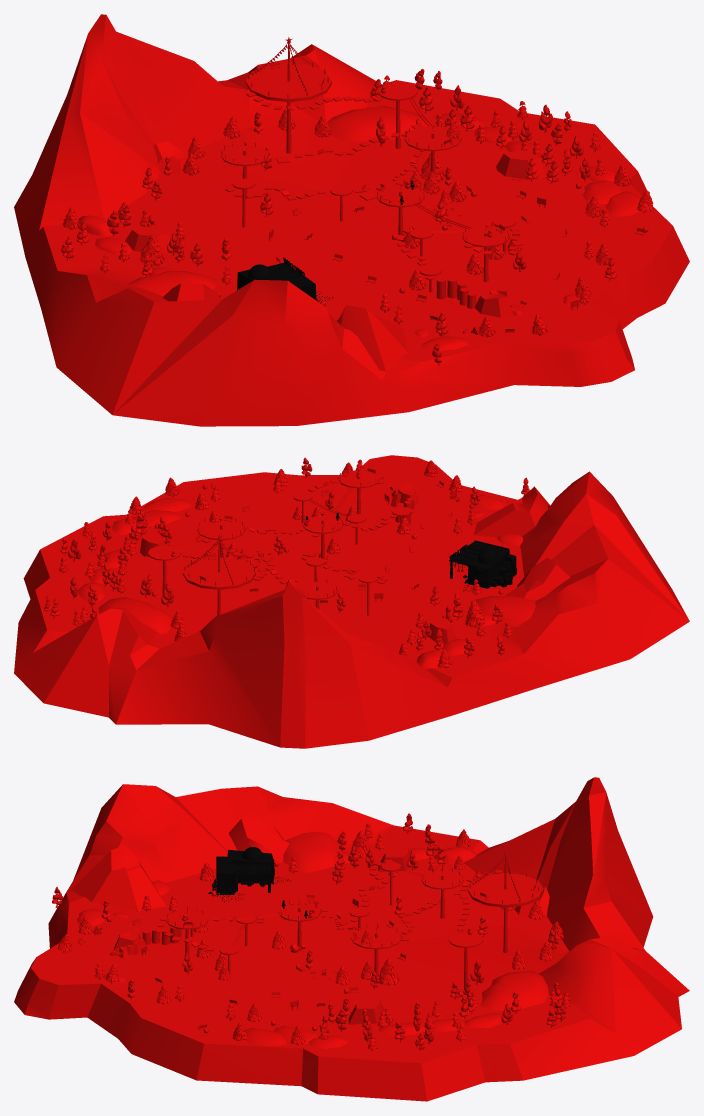
Rendered from Individual_ObbyLobby_01.glb.
3 views of the same model, one above another, from view 1: azimuth 30°, elevation 25°; view 2: azimuth 150°, elevation 25°; view 3: azimuth 270°, elevation 25° (orthographic). The views are drawn at different scales.
Parts seen in each view (by area): view 1: pCylinder1, pCylinder16, pasted__Object_IceRock8, pasted__SnowPatch12, pasted__Object_Box20, pasted__SnowPatch11, pCylinder30, pasted__Object_IceRock12, pCylinder4, pCylinder15, pCylinder29, pasted__Object_IceRock4 (+6 smaller); view 2: pCylinder1, pasted__Object_Box20, pasted__Object_IceRock8, pCylinder16, pasted__Object_IceRock4, pasted__SnowPatch11, pasted__SnowPatch12, pCylinder30, pCylinder4, pCylinder15, pCylinder29, pCylinder31 (+2 smaller); view 3: pCylinder1, pasted__Object_IceRock8, pasted__Object_Box20, pCylinder16, pasted__SnowPatch12, pasted__SnowPatch11, pasted__Object_IceRock4, pCylinder30, pCylinder29, pCylinder15, pCylinder4, pasted__Object_IceRock12 (+2 smaller).
Part boxes in pixels (x1,y1,x2,y2): pCylinder1: [14, 14, 689, 426]; pCylinder16: [245, 42, 331, 153]; pasted__Object_IceRock8: [337, 305, 407, 371]; pasted__SnowPatch12: [327, 106, 432, 141]; pasted__Object_Box20: [237, 257, 333, 306]; pasted__SnowPatch11: [127, 271, 216, 296]; pCylinder30: [404, 125, 461, 175]; pasted__Object_IceRock12: [496, 150, 546, 180]; pCylinder4: [462, 226, 509, 281]; pCylinder15: [376, 186, 424, 234]; pCylinder29: [221, 145, 268, 199]; pasted__Object_IceRock4: [163, 283, 220, 301]; pCylinder1: [14, 455, 689, 748]; pasted__Object_Box20: [449, 540, 516, 591]; pasted__Object_IceRock8: [473, 486, 549, 537]; pCylinder16: [182, 539, 255, 615]; pasted__Object_IceRock4: [505, 557, 570, 600]; pasted__SnowPatch11: [470, 596, 535, 626]; pasted__SnowPatch12: [98, 597, 172, 633]; pCylinder30: [197, 518, 245, 556]; pCylinder4: [338, 470, 379, 514]; pCylinder15: [302, 515, 343, 558]; pCylinder29: [299, 581, 337, 609]; pCylinder31: [148, 545, 181, 593]; pCylinder1: [14, 777, 689, 1101]; pasted__Object_IceRock8: [71, 845, 166, 911]; pasted__Object_Box20: [208, 847, 290, 902]; pCylinder16: [467, 855, 543, 952]; pasted__SnowPatch12: [480, 970, 548, 1010]; pasted__SnowPatch11: [283, 831, 340, 872]; pasted__Object_IceRock4: [228, 812, 289, 862]; pCylinder30: [351, 927, 401, 983]; pCylinder29: [421, 870, 463, 918]; pCylinder15: [278, 903, 320, 950]; pCylinder4: [166, 910, 208, 958]; pasted__Object_IceRock12: [348, 999, 384, 1024].
Size of the model in its own units: 116 by 29.23 by 120.
